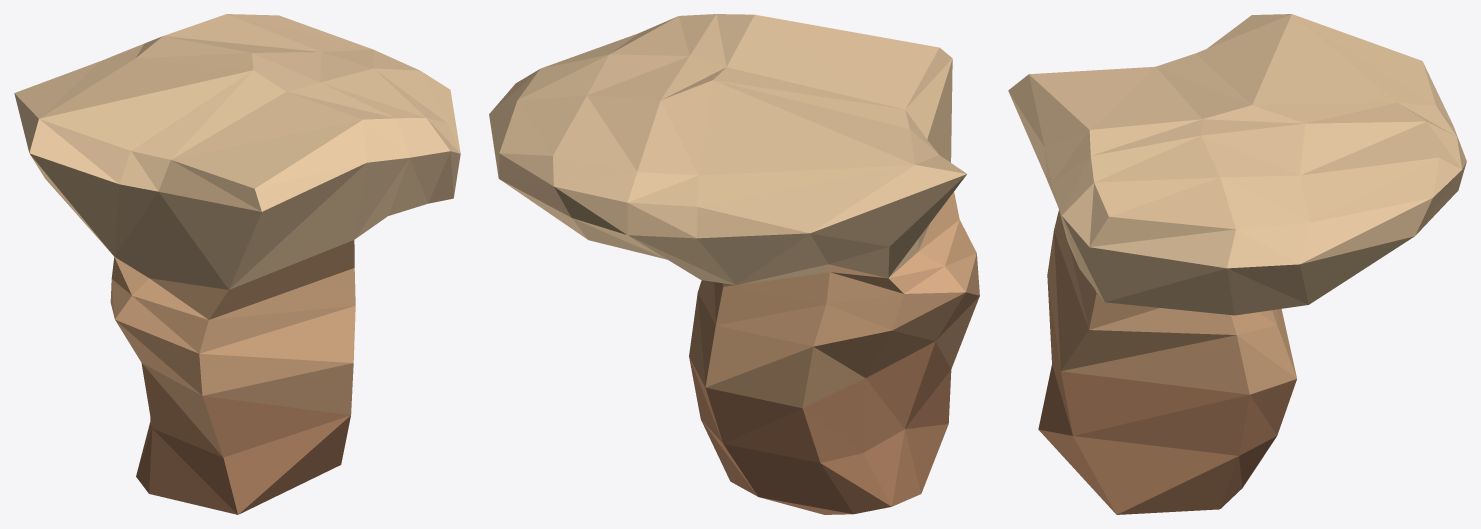
Rendered from canyon-2-4.glb.
The picture shows the model from 3 angles, left to right: view 1: azimuth 30°, elevation 25°; view 2: azimuth 150°, elevation 25°; view 3: azimuth 270°, elevation 25°; orthographic projection. The views are drawn at different scales.
Visible parts, largest first — view 1: canyon-2-4; view 2: canyon-2-4; view 3: canyon-2-4.
Part boxes in pixels (bbox=[...]): canyon-2-4: bbox=[14, 14, 460, 514]; canyon-2-4: bbox=[489, 14, 979, 514]; canyon-2-4: bbox=[1008, 14, 1466, 514].
Bounding box in the file's own units: 31.23 × 28 × 27.27.
